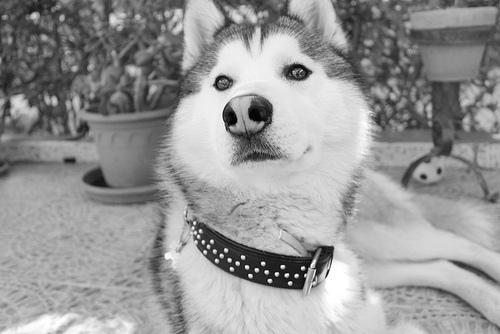dog: (141, 0, 498, 333)
